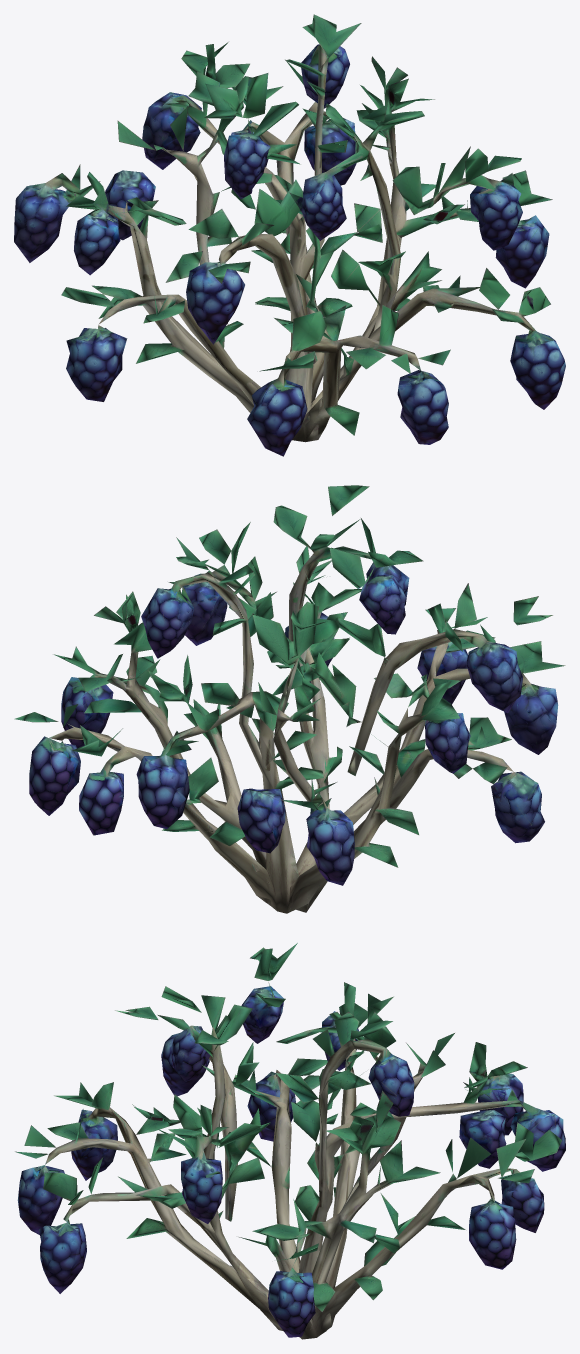
3 renders of one model, top to bottom at view 1: azimuth 30°, elevation 25°; view 2: azimuth 150°, elevation 25°; view 3: azimuth 270°, elevation 25°, orthographic. The views are drawn at different scales.
Parts seen in each view (by area): view 1: Mesh_0; view 2: Mesh_0; view 3: Mesh_0.
Part boxes in pixels (x1=…): Mesh_0: x1=14, y1=14, x2=565, y2=456; Mesh_0: x1=14, y1=485, x2=565, y2=913; Mesh_0: x1=15, y1=943, x2=565, y2=1339.
Size of the model in its own units: 1.76 by 1.36 by 1.89.
Materials: 1 (1 with a texture image).
